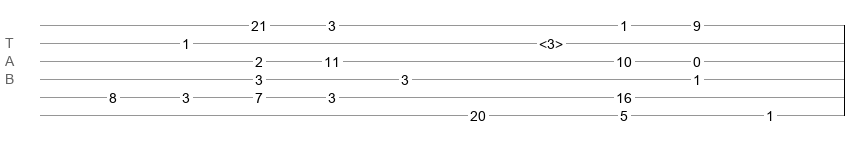0: (693, 54, 701, 64)
1: (182, 36, 190, 46), (620, 18, 628, 28), (693, 72, 701, 82), (766, 108, 774, 118)
10: (616, 54, 632, 64)
11: (324, 54, 340, 64)
16: (616, 90, 632, 100)
2: (255, 54, 263, 64)
20: (470, 108, 486, 118)
21: (251, 18, 267, 28)
3: (182, 90, 190, 100), (255, 72, 263, 82), (328, 18, 336, 28), (328, 90, 336, 100), (401, 72, 409, 82)
5: (620, 108, 628, 118)
7: (255, 90, 263, 100)
8: (109, 90, 117, 100)
9: (693, 18, 701, 28)
harmonic: (539, 36, 563, 46)
